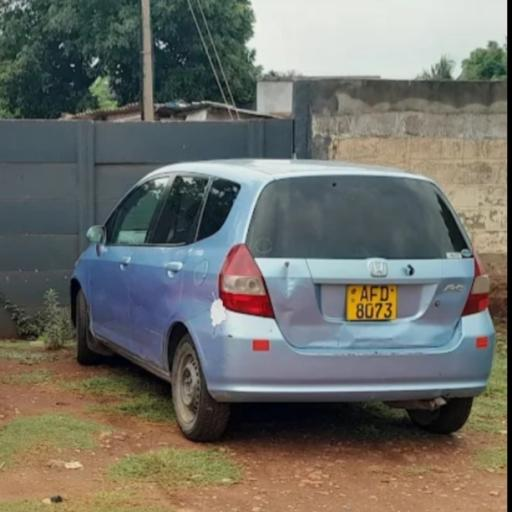number-plates: (342, 288, 402, 324)
